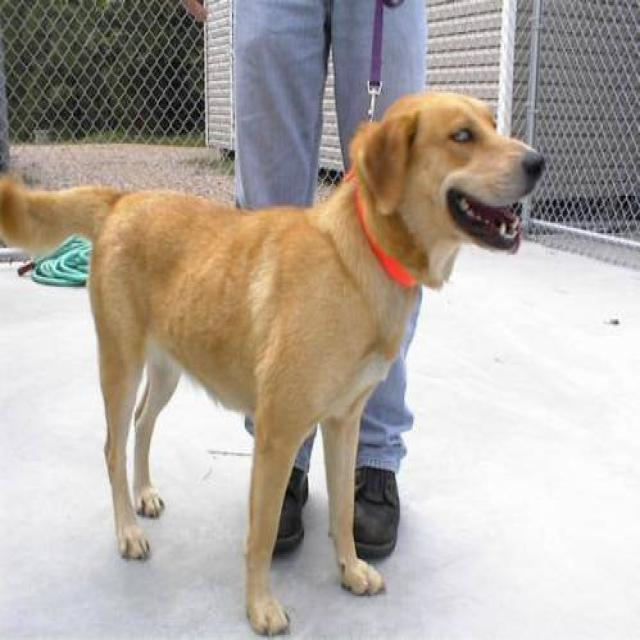dog: (0, 88, 545, 636)
